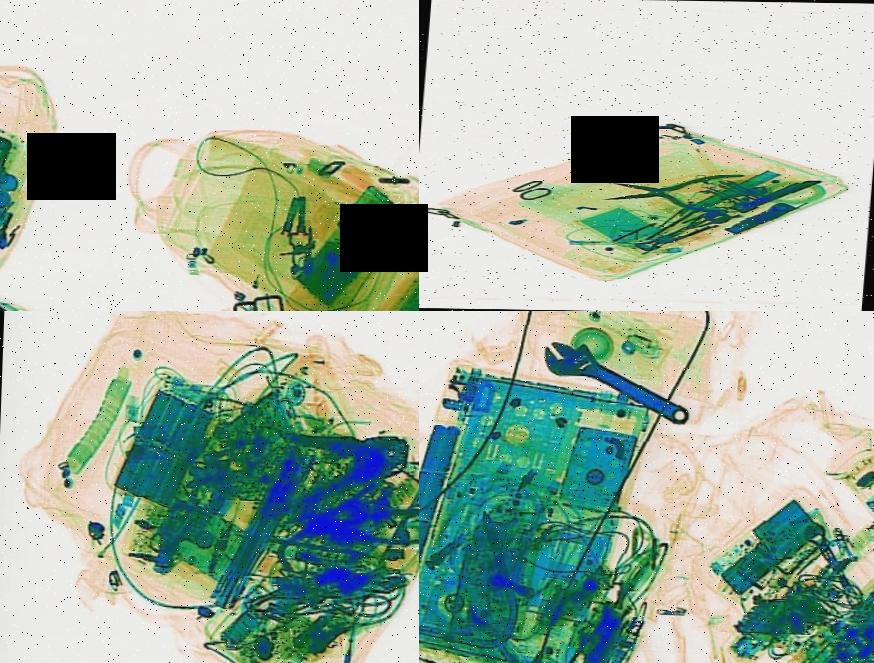Pliers: (276, 411, 413, 510), (600, 170, 744, 212)
Wrench: (524, 330, 702, 435)
